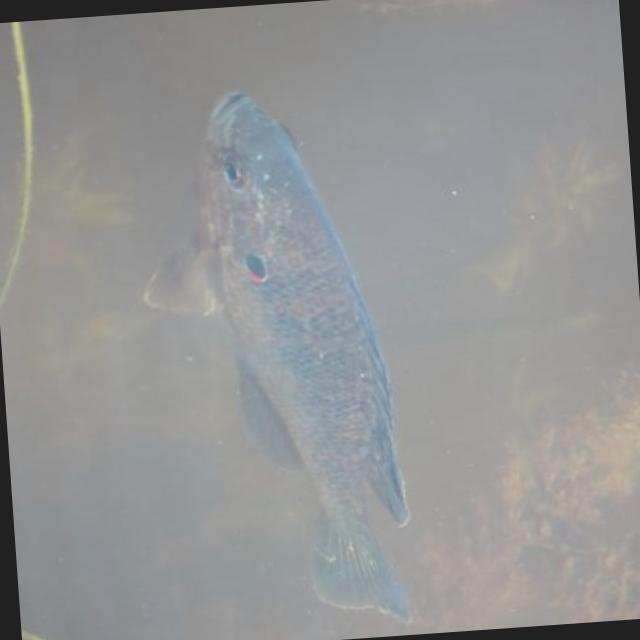Gunes Levregi: (115, 78, 423, 640)
